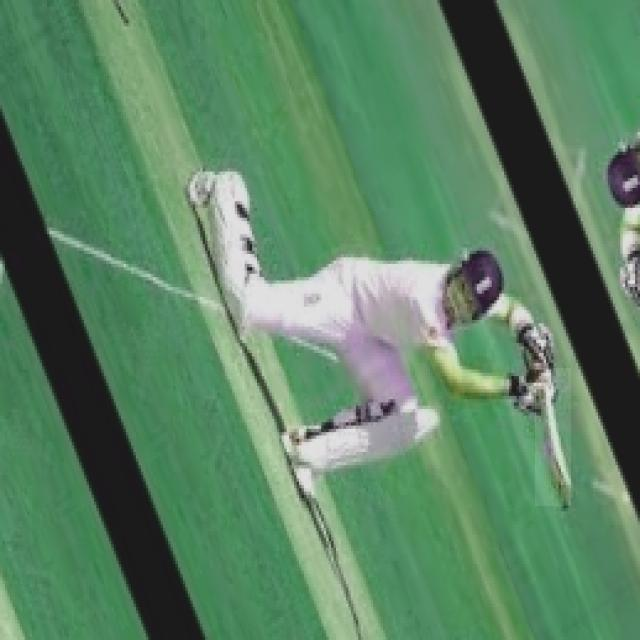bat: (534, 370, 575, 508)
toe: (554, 473, 572, 506)
